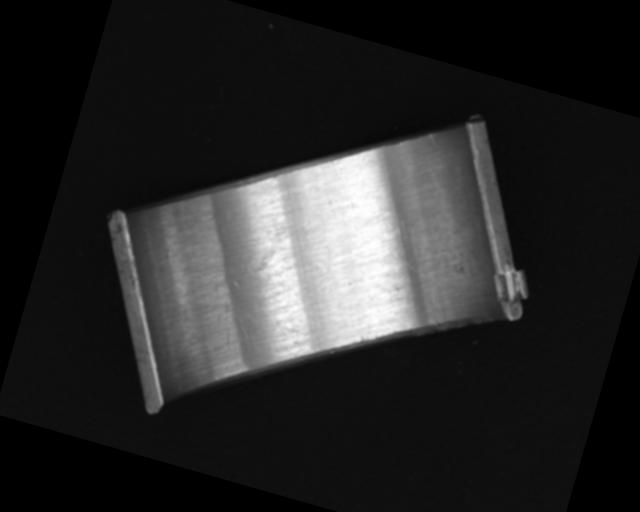nick: (427, 132, 440, 148)
